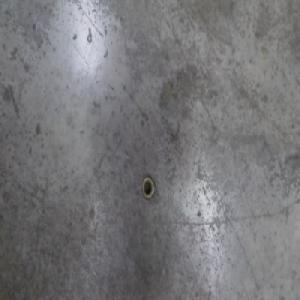Nut: (141, 175, 154, 202)
